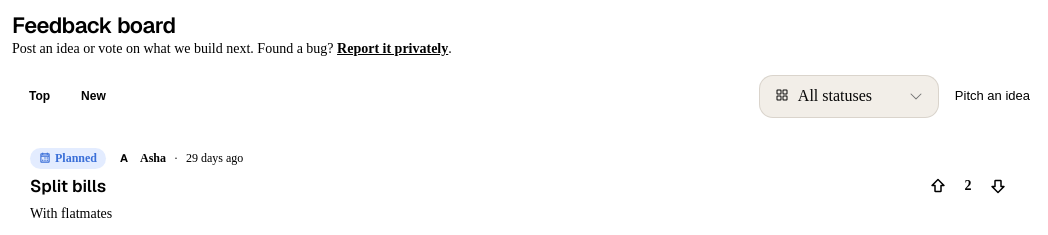
Test: saves the last of several quick taps
Expected: the text "Split bills" is shown, x1=30 y1=175 x2=106 y2=197
Click the button named "Upvote": (938, 186) x1=922 y1=170 x2=954 y2=202
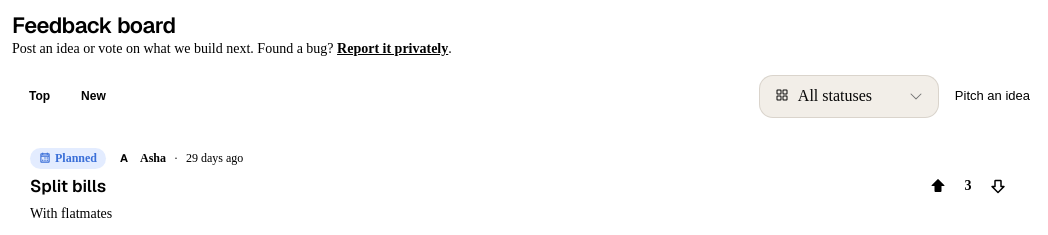
Click the button named "Upvote": (938, 186) x1=922 y1=170 x2=954 y2=202
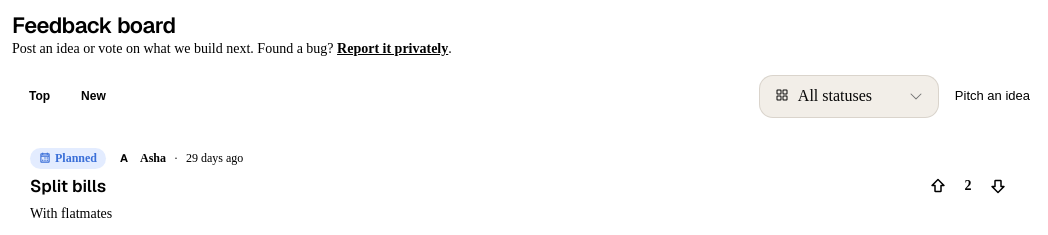
Click the button named "Downvote": (998, 186) x1=982 y1=170 x2=1014 y2=202
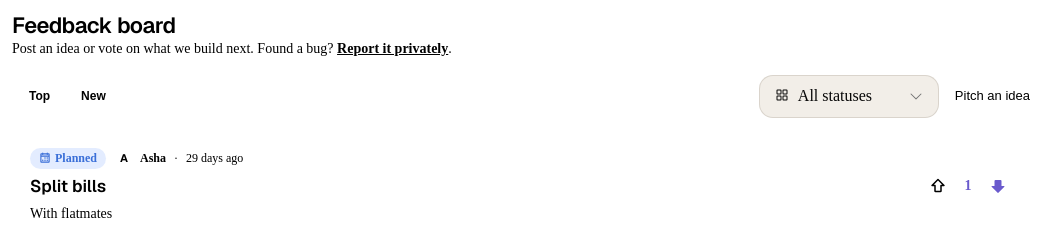
Result: the element named "Votes, score 1" is shown at x1=918 y1=166 x2=1018 y2=206
